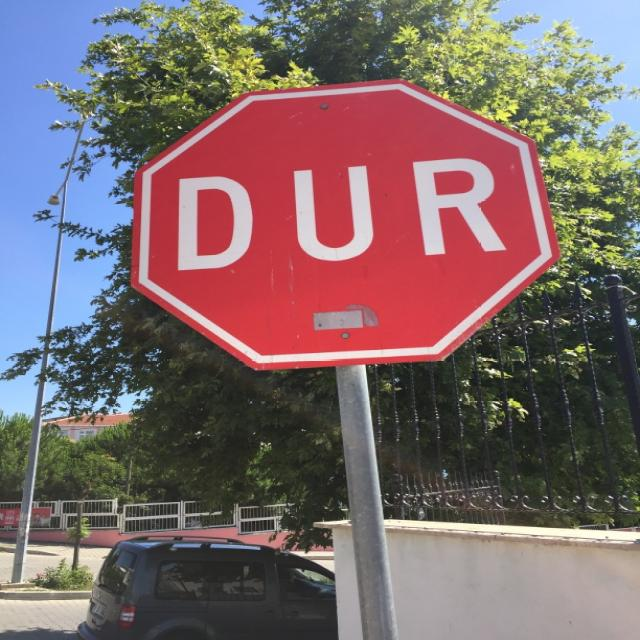dur: (132, 78, 560, 370)
